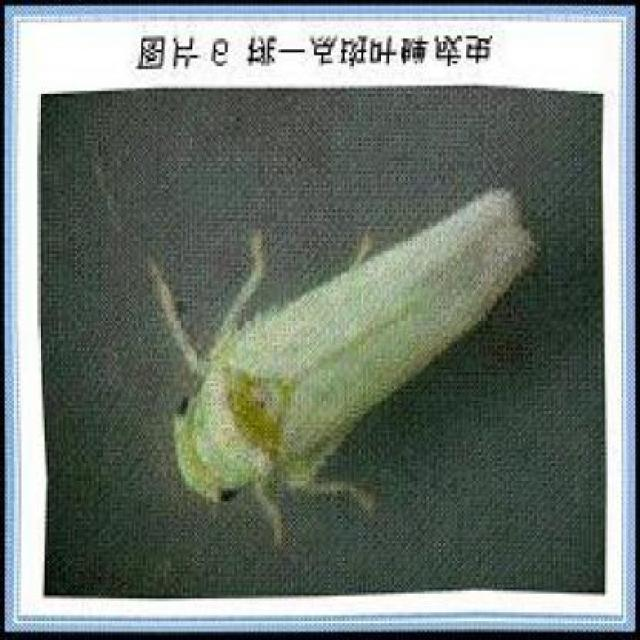green-leafhopper: (159, 183, 524, 532)
